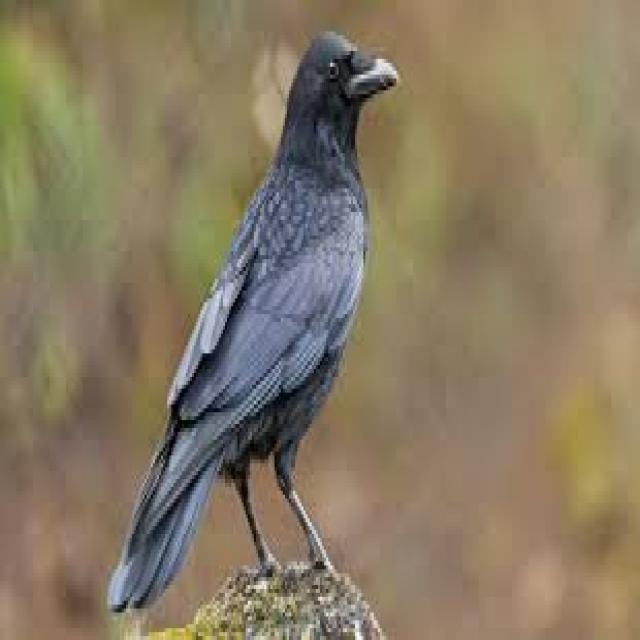crow: (293, 0, 401, 389)
